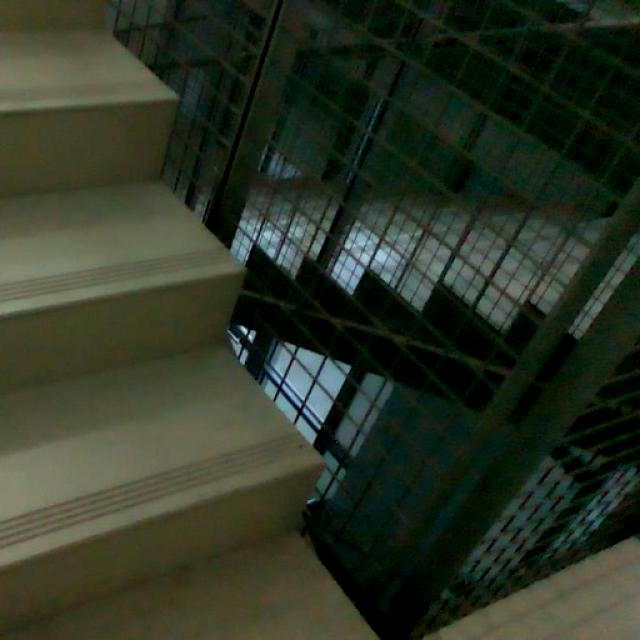stair: (0, 0, 307, 566)
